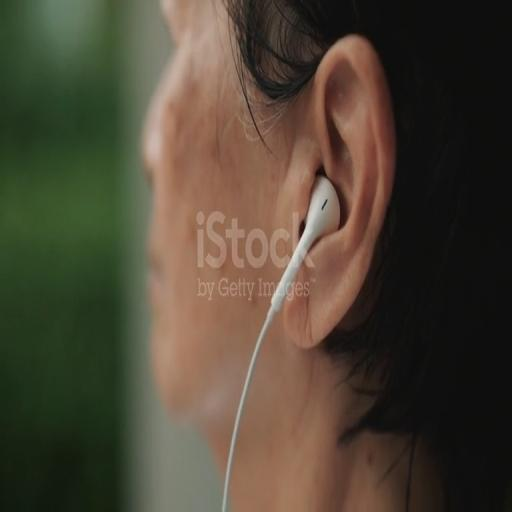earphone: (214, 145, 353, 512)
